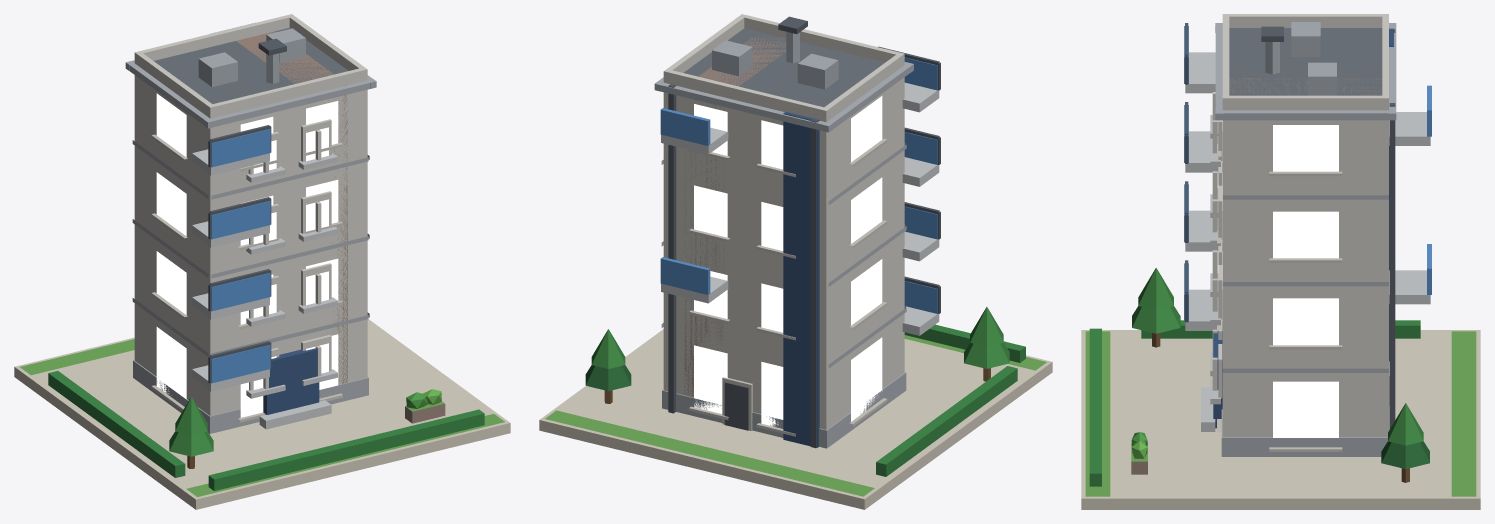
3 renders of one model, left to right at view 1: azimuth 30°, elevation 25°; view 2: azimuth 150°, elevation 25°; view 3: azimuth 270°, elevation 25°, orthographic. The views are drawn at different scales.
Visible parts, largest first — view 1: b05; view 2: b05; view 3: b05.
Boxes of the visible parts, x1,y1,x2,y2 form: b05: (14,14,510,509); b05: (539,14,1052,509); b05: (1081,14,1480,509).
Bounding box in the file's own units: 0.96 × 1.05 × 0.96.
